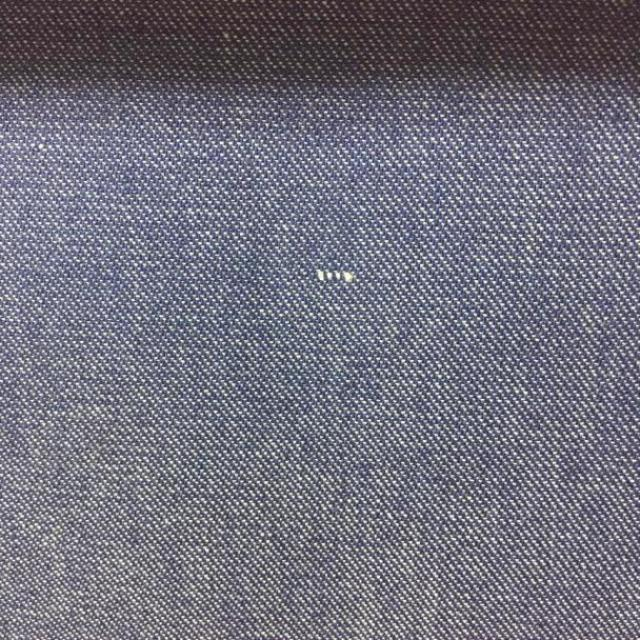Knot: (316, 271, 356, 283)
